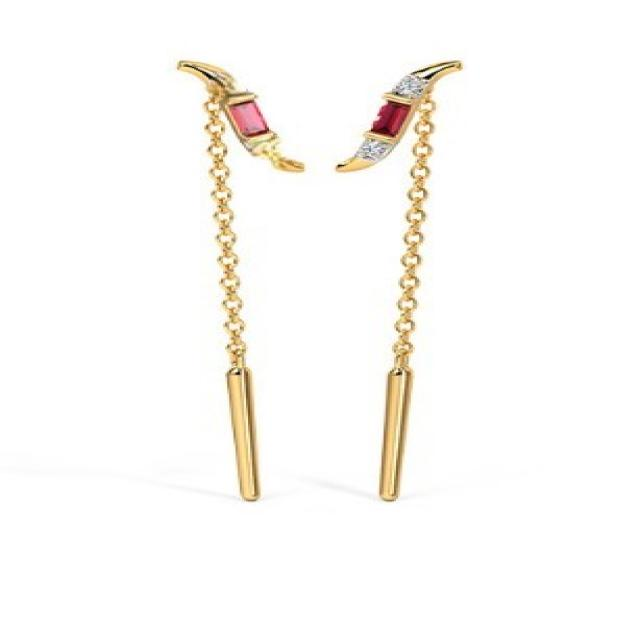missing gem: (245, 133, 306, 172), (174, 58, 239, 93)
